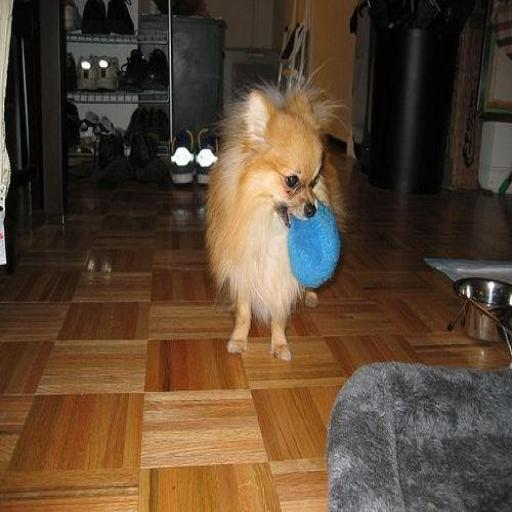dog_face: (246, 86, 330, 238)
